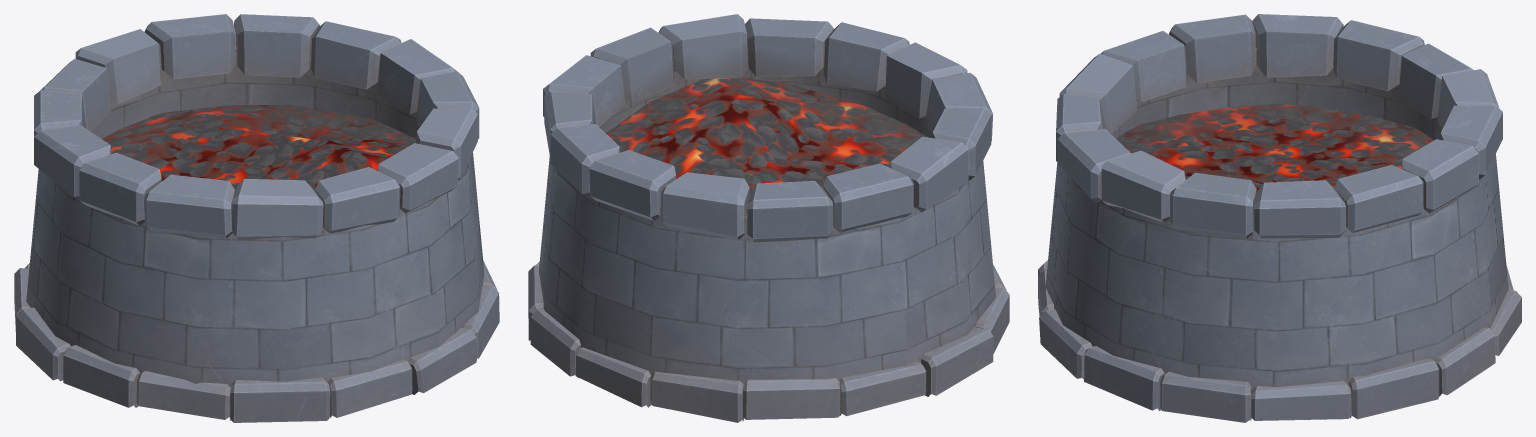
Rendered from ROK0310002.fbx.
The picture shows the model from 3 angles, left to right: view 1: azimuth 30°, elevation 25°; view 2: azimuth 150°, elevation 25°; view 3: azimuth 270°, elevation 25°; orthographic projection.
Parts seen in each view (by area): view 1: smROK0310002; view 2: smROK0310002; view 3: smROK0310002.
Part boxes in pixels (x1,y1,x2,y2): smROK0310002: [14, 14, 499, 422]; smROK0310002: [528, 14, 1009, 422]; smROK0310002: [1038, 14, 1521, 422].
Size of the model in its own units: 203 by 101 by 199.
Materials: 1 (1 with a texture image).
